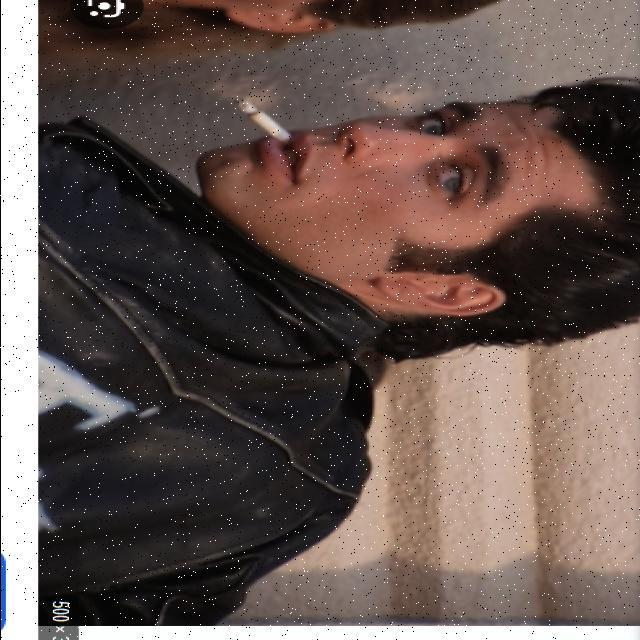face_no_mask: (193, 99, 575, 311)
